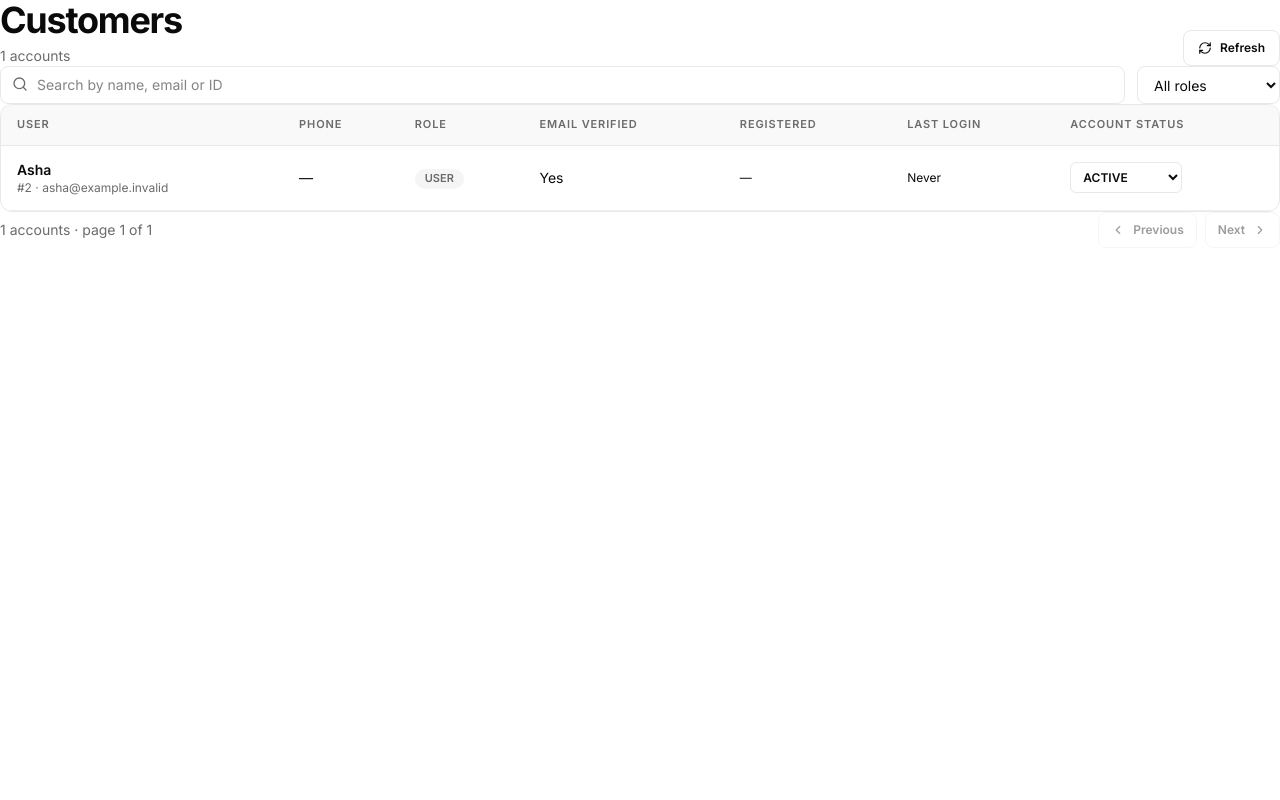
Test case: admin users › suspending asks for confirmation in a dialog and does nothing when cancelled
Check: the text "Asha" is shown, box [17, 161, 51, 178]
Select "SUSPENDED" in the dropdown named "Account status for asha@example.invalid". click: (1126, 178)
box: [1070, 162, 1182, 193]
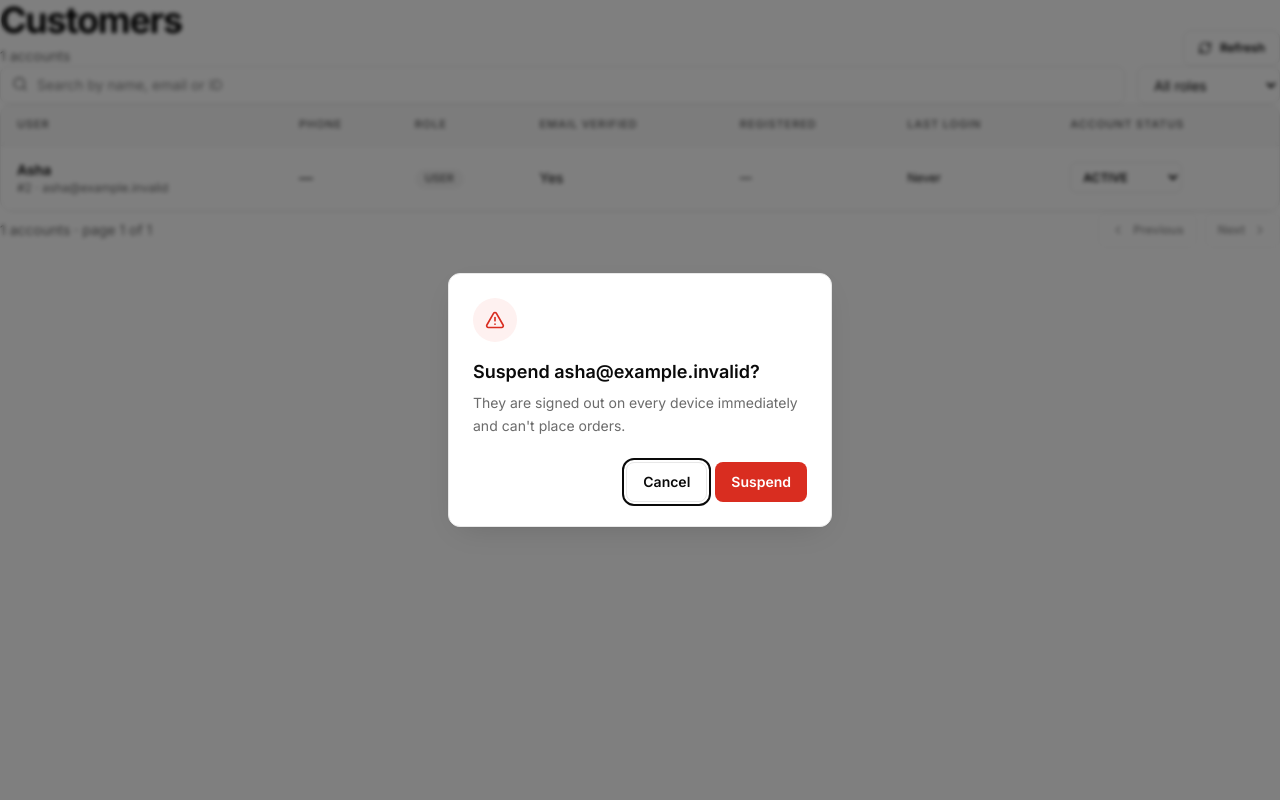
Check: the heading "Suspend asha@example.invalid?" is shown, box [473, 358, 807, 386]
Click the button "Cancel". click: (667, 482)
box: [626, 462, 707, 502]
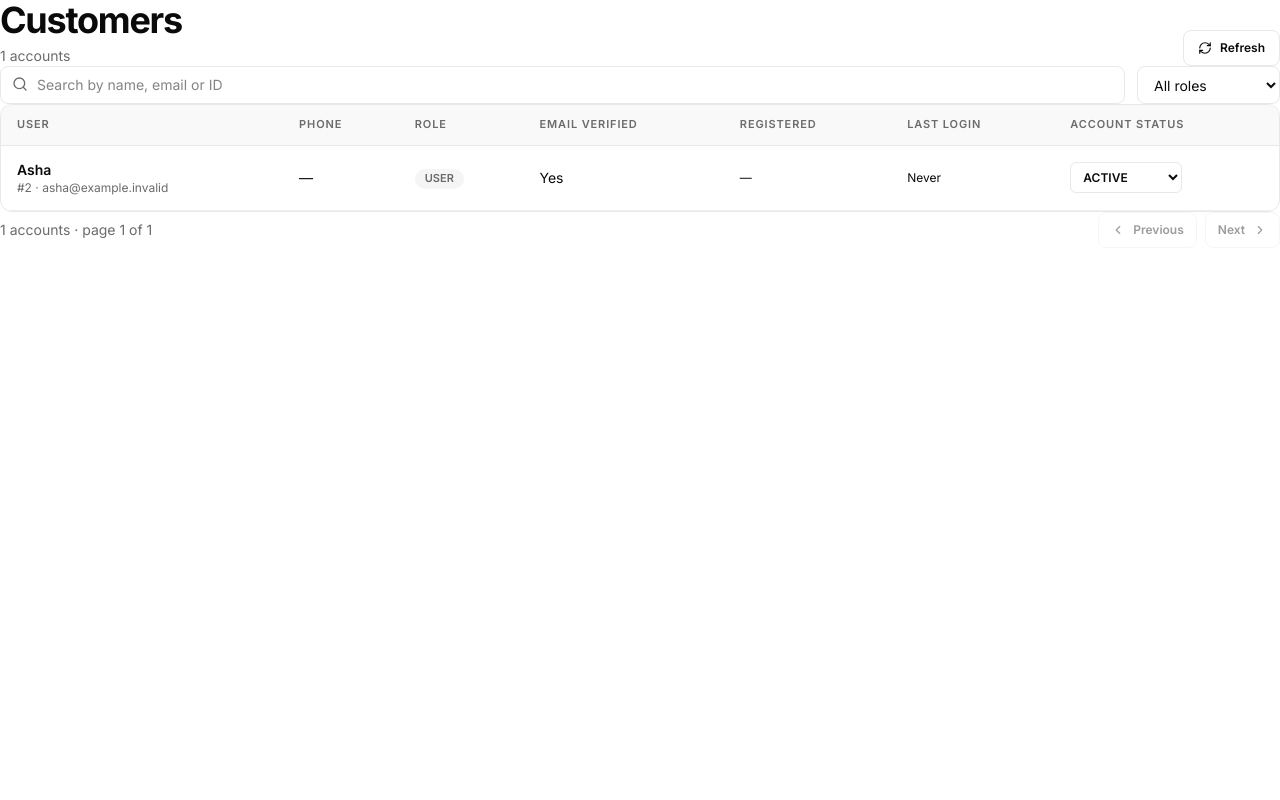
Check: the dialog is gone
